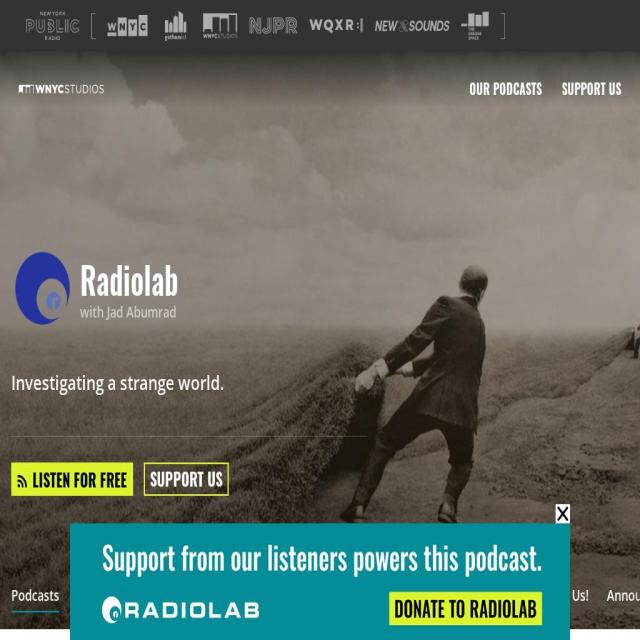button: (11, 246, 80, 332), (80, 256, 178, 301), (11, 462, 133, 496), (19, 81, 135, 96), (469, 77, 542, 100), (164, 589, 257, 604), (562, 77, 621, 100), (275, 589, 364, 604), (77, 589, 146, 604), (12, 589, 59, 604), (542, 589, 589, 604), (480, 589, 524, 604), (607, 589, 640, 604), (382, 589, 414, 604), (432, 589, 462, 604), (556, 504, 570, 524)
heading: (80, 256, 178, 301)
iframe: (70, 523, 570, 640)
image: (11, 247, 74, 330), (108, 14, 148, 38), (160, 11, 192, 41), (374, 20, 450, 32), (202, 14, 238, 38), (250, 17, 298, 35), (309, 18, 363, 34), (18, 84, 104, 94), (462, 11, 489, 41), (558, 507, 568, 521), (91, 13, 96, 39), (17, 475, 27, 487), (501, 13, 505, 39)
link: (150, 465, 222, 492)
text: (12, 368, 225, 396), (505, 0, 614, 52), (32, 466, 127, 492), (80, 300, 178, 323)
